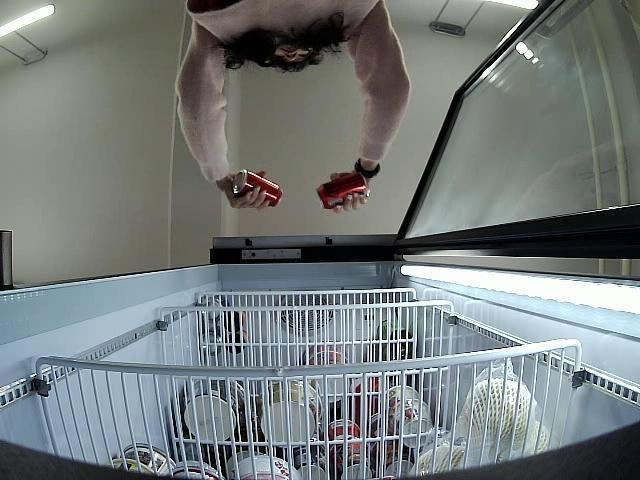11_cocaColaZero: (233, 169, 284, 210), (316, 175, 370, 210)
